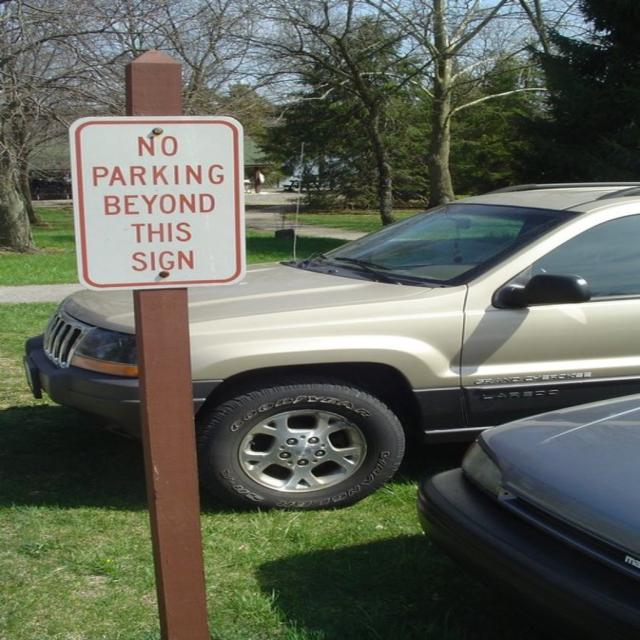car: (46, 183, 633, 515)
